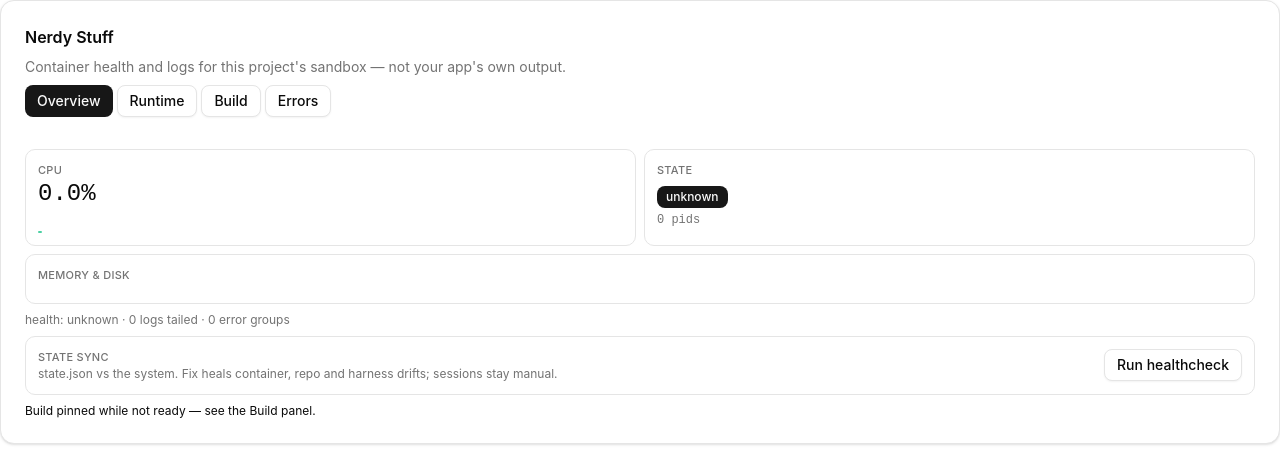
Test case: NerdyStuffTab › shows the nerdy empty state
Click the tab with test id "nerdy-panel-runtime".
click(157, 101)  # box [116,85,197,117]
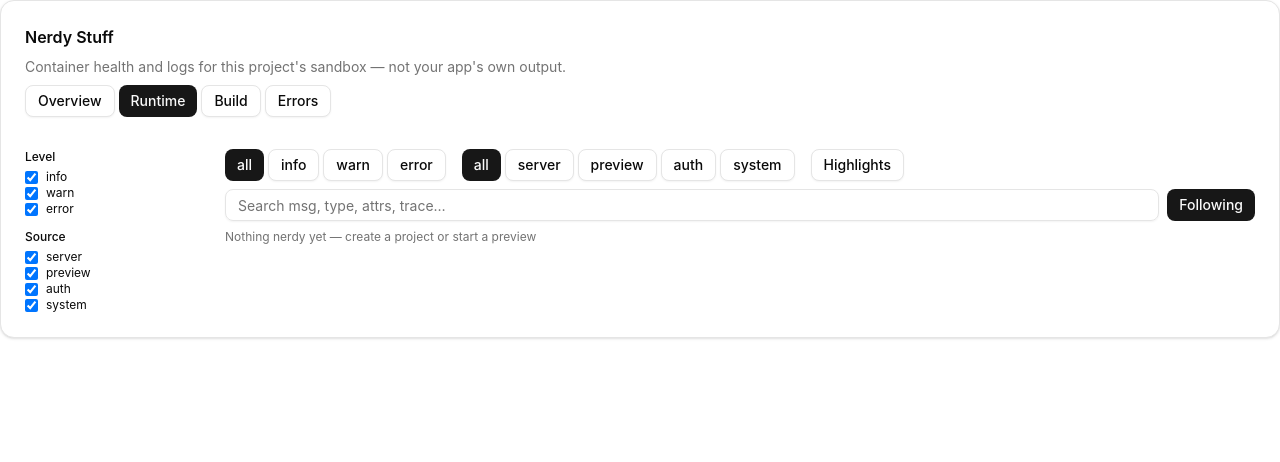
Expected: the text with test id "nerdy-empty" shows "Nothing nerdy yet", [225,229,536,244]
